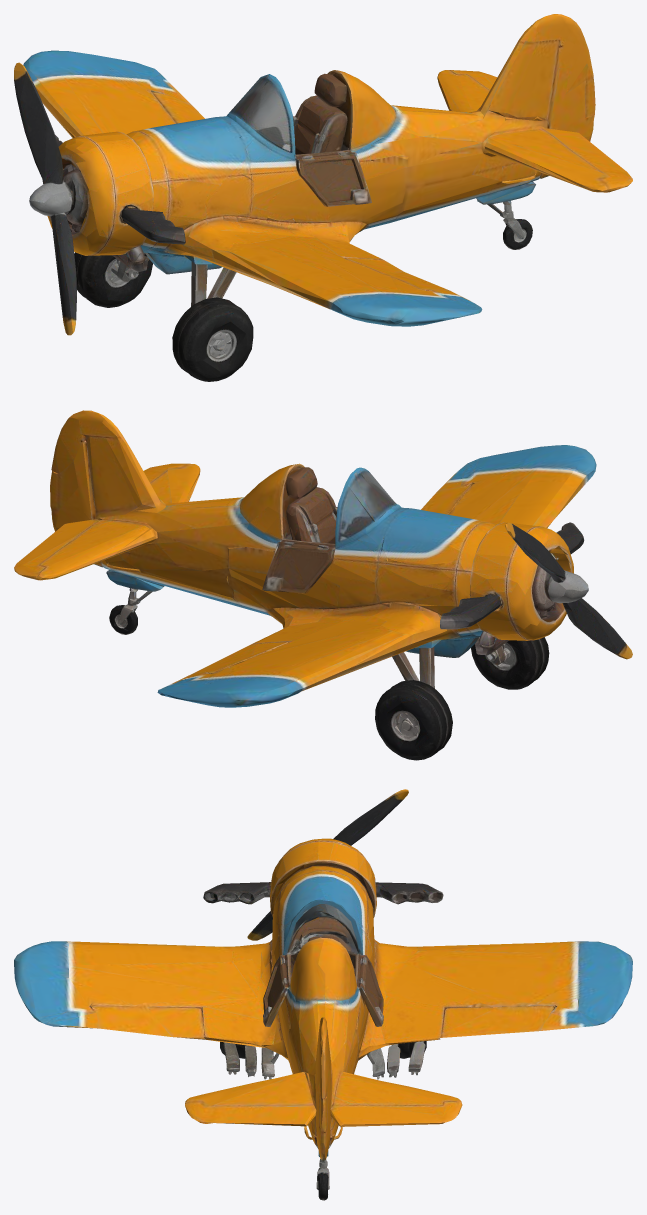
The picture shows the model from 3 angles, top to bottom: view 1: azimuth 30°, elevation 25°; view 2: azimuth 150°, elevation 25°; view 3: azimuth 270°, elevation 25°; orthographic projection. The views are drawn at different scales.
Visible parts, largest first — view 1: output_unwrapped; view 2: output_unwrapped; view 3: output_unwrapped.
Part boxes in pixels (left/top/right/bottom): output_unwrapped: left=14, top=14, right=632, bottom=381; output_unwrapped: left=14, top=410, right=632, bottom=760; output_unwrapped: left=14, top=789, right=632, bottom=1200.
Bounding box in the file's own units: 3.81 × 1.7 × 4.21.
1 material, 1 textured.
